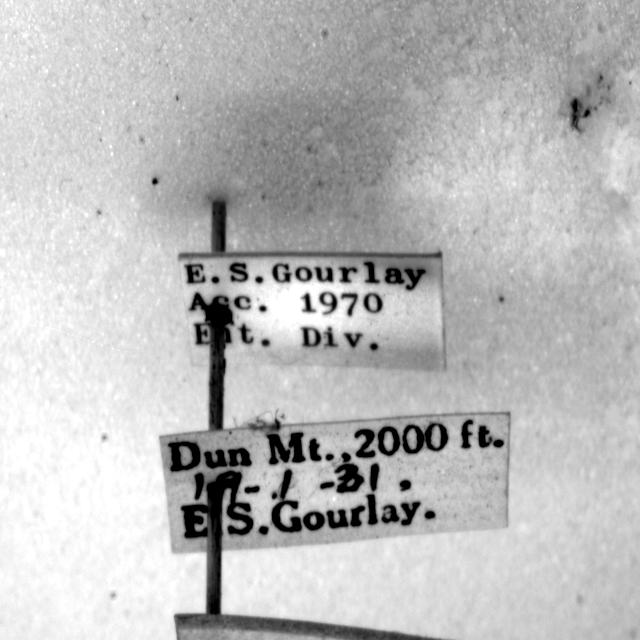mixed_label: (160, 412, 510, 553)
typed_label: (179, 253, 445, 371)
